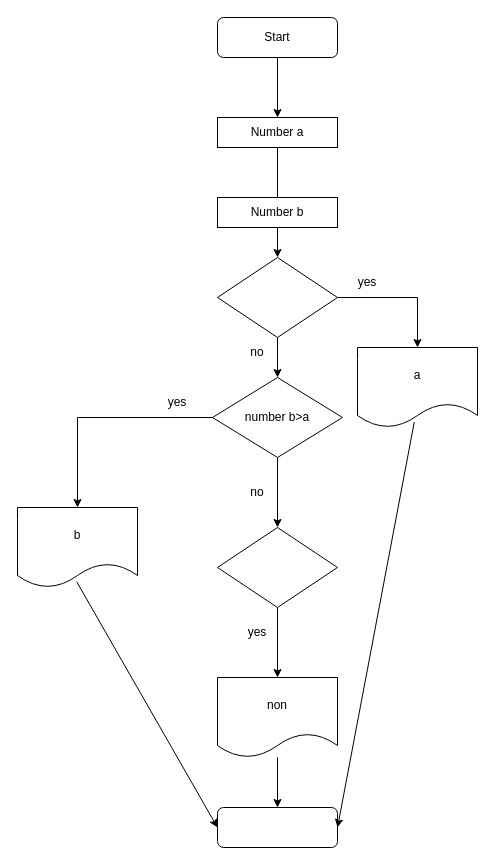
The diagram is 495 pixels wide and 865 high, and some of its shapes have lost their labels. The box of each missing label's shape, as (x1, y1, x2, y2) in pixels:
End: (216, 806, 338, 848)
number a=b: (216, 526, 338, 608)
number a>b: (216, 256, 338, 338)
